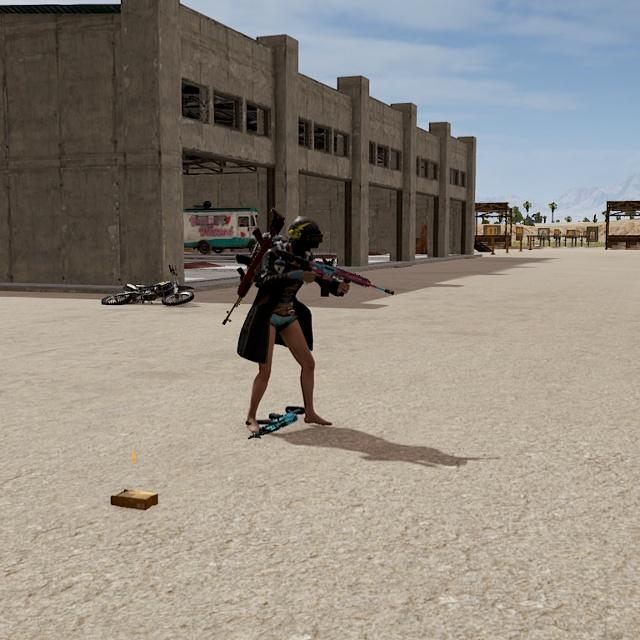head: (284, 215, 326, 255)
people: (245, 212, 335, 432)
